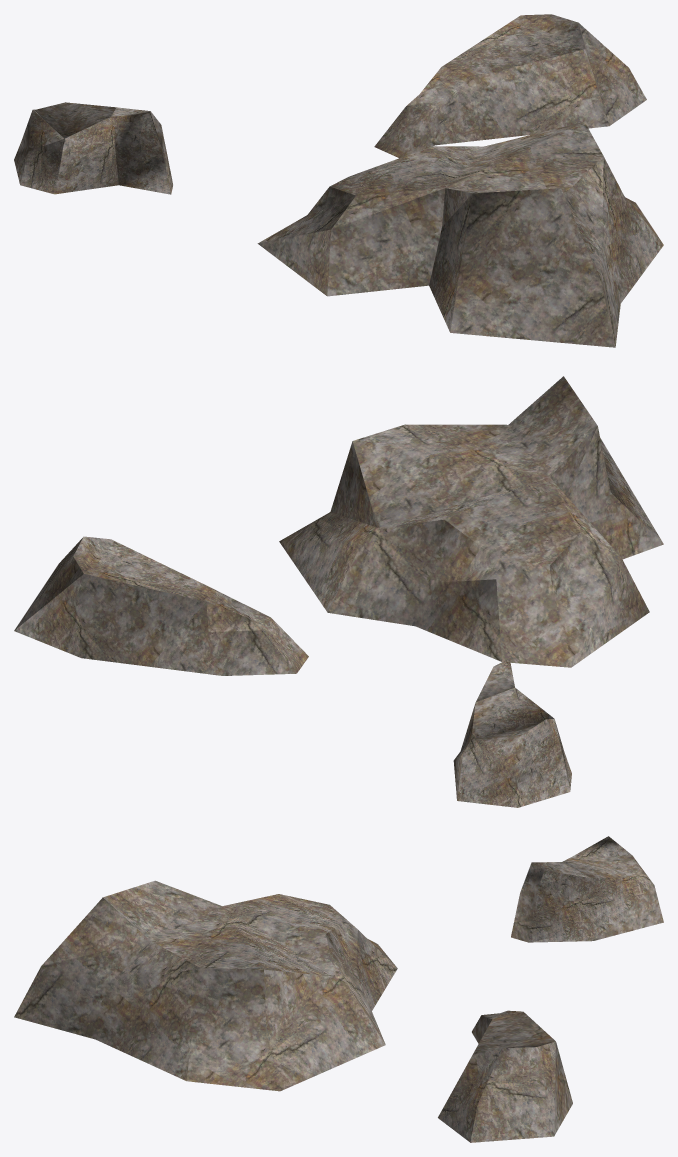
The model's file is RckM01.glb.
3 renders of one model, top to bottom at view 1: azimuth 30°, elevation 25°; view 2: azimuth 150°, elevation 25°; view 3: azimuth 270°, elevation 25°, orthographic. The views are drawn at different scales.
Parts seen in each view (by area): view 1: _RckM01; view 2: _RckM01; view 3: _RckM01.
Part boxes in pixels (box(x1,y1,x2,y2)): _RckM01: box(14, 14, 663, 347); _RckM01: box(14, 376, 663, 807); _RckM01: box(14, 836, 663, 1142).
Size of the model in its own units: 17.76 by 3.84 by 19.33.
1 material, 1 textured.
